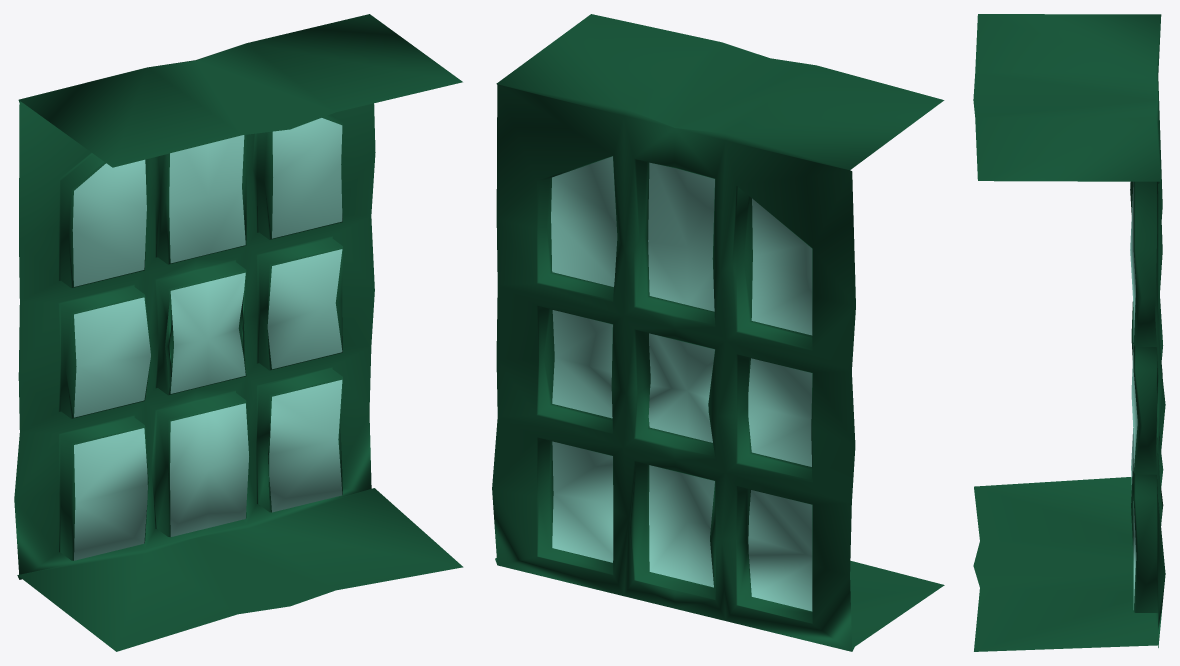
The model's file is Window_9Pane.fbx.
3 renders of one model, left to right at view 1: azimuth 30°, elevation 25°; view 2: azimuth 150°, elevation 25°; view 3: azimuth 270°, elevation 25°, orthographic. The views are drawn at different scales.
Visible parts, largest first — view 1: Window_9Pane; view 2: Window_9Pane; view 3: Window_9Pane.
Part boxes in pixels (bbox=[...]): Window_9Pane: bbox=[14, 14, 463, 651]; Window_9Pane: bbox=[492, 14, 944, 651]; Window_9Pane: bbox=[973, 14, 1165, 651].
Bounding box in the file's own units: 1.11 × 0.5275 × 1.44.
